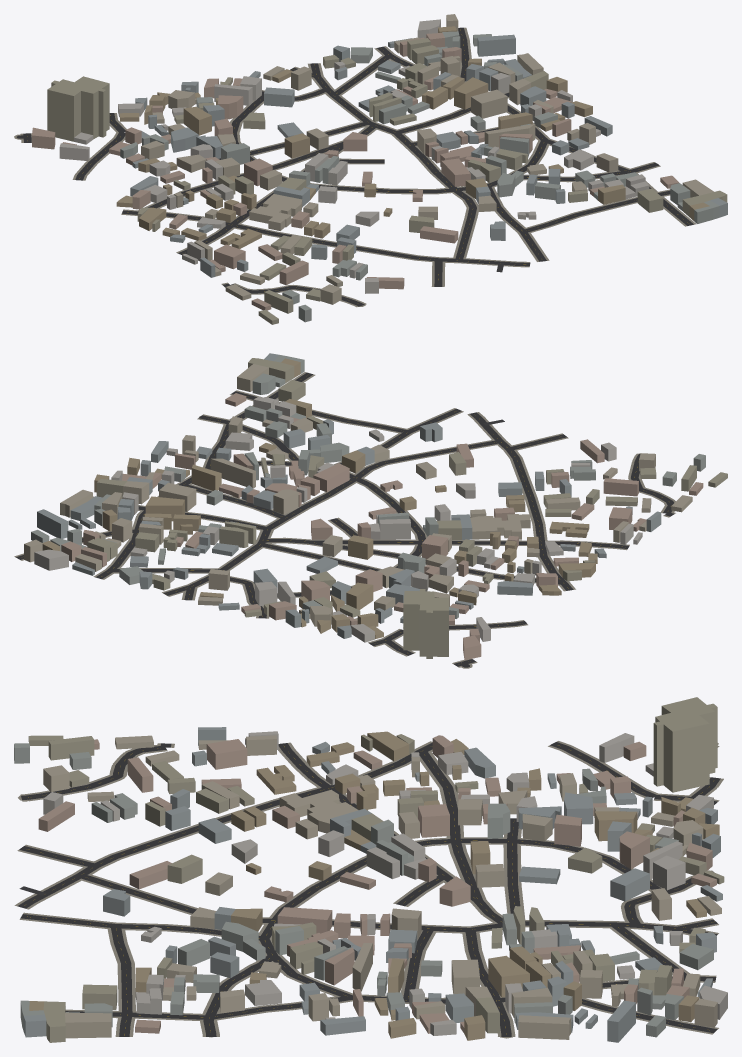
3 views of the same model, one above another, from view 1: azimuth 30°, elevation 25°; view 2: azimuth 150°, elevation 25°; view 3: azimuth 270°, elevation 25° (orthographic). The views are drawn at different scales.
Visible parts, largest first — view 1: tile_-1_-1; view 2: tile_-1_-1; view 3: tile_-1_-1.
Boxes of the visible parts, x1,y1,x2,y2 form: tile_-1_-1: [14, 14, 727, 324]; tile_-1_-1: [14, 353, 727, 668]; tile_-1_-1: [14, 697, 727, 1042].
Size of the model in its own units: 413 by 38.8 by 411.
